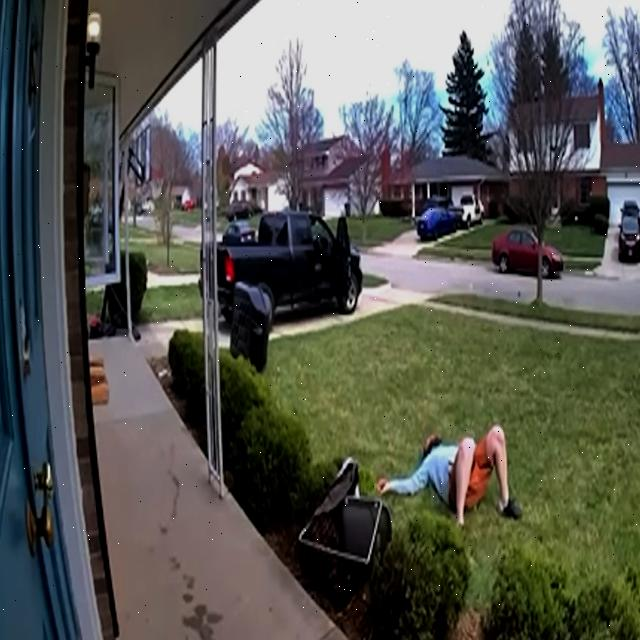fallen: (377, 425, 521, 525)
